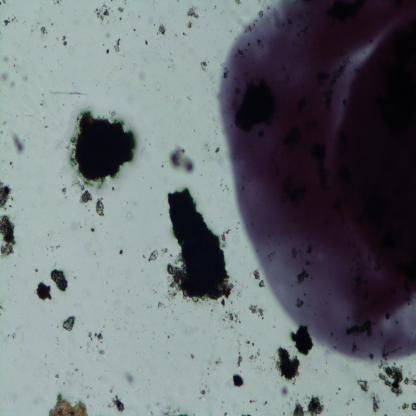Background material: (71, 107, 138, 188), (286, 320, 316, 358), (376, 363, 404, 397), (48, 393, 90, 415), (276, 347, 302, 380), (0, 215, 19, 258), (172, 142, 196, 176), (292, 394, 324, 415), (218, 308, 241, 334), (153, 400, 191, 415), (86, 329, 106, 356), (0, 175, 14, 211), (8, 128, 25, 156), (34, 280, 53, 303), (50, 268, 69, 291), (96, 4, 116, 25), (108, 392, 126, 414), (245, 339, 262, 360), (368, 390, 382, 413), (46, 240, 63, 258), (76, 188, 95, 204), (251, 268, 266, 288), (250, 304, 266, 321), (354, 377, 370, 393), (231, 370, 245, 388), (93, 199, 106, 217), (186, 3, 198, 22), (62, 316, 75, 333), (3, 14, 20, 26), (146, 248, 160, 262), (404, 372, 416, 388), (401, 400, 416, 412), (124, 370, 135, 386), (199, 381, 208, 399), (221, 229, 231, 244), (0, 72, 10, 86), (113, 37, 121, 54), (199, 58, 208, 73), (280, 383, 289, 397), (210, 146, 220, 158), (21, 70, 29, 84), (158, 22, 166, 36), (236, 355, 244, 369), (32, 266, 40, 278), (61, 34, 68, 47), (156, 300, 165, 310), (40, 25, 47, 37), (62, 186, 68, 200), (262, 395, 268, 408), (117, 4, 126, 12), (41, 120, 48, 130), (240, 411, 253, 416), (188, 352, 195, 360), (90, 226, 96, 234), (118, 248, 124, 256), (250, 398, 258, 403), (54, 0, 62, 5), (105, 48, 110, 56), (0, 0, 8, 4), (145, 38, 148, 46)
Fragment: (165, 188, 231, 302)
Pen: (218, 0, 416, 361)
